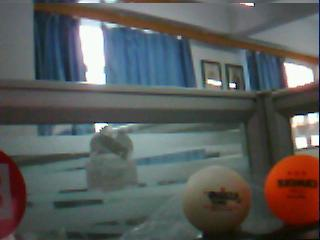oball: (265, 154, 320, 223)
